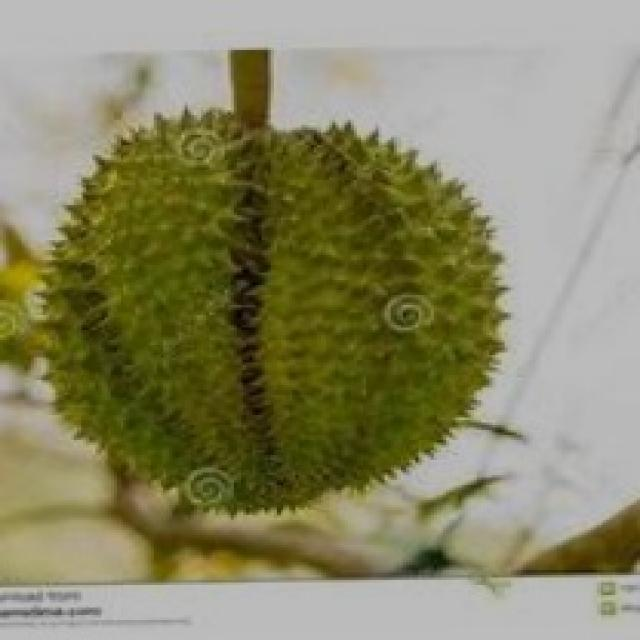fruit: (221, 95, 557, 533), (7, 145, 296, 533)
